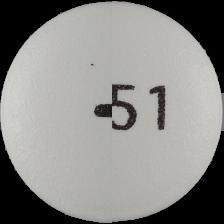60429-422: (0, 0, 224, 224)
